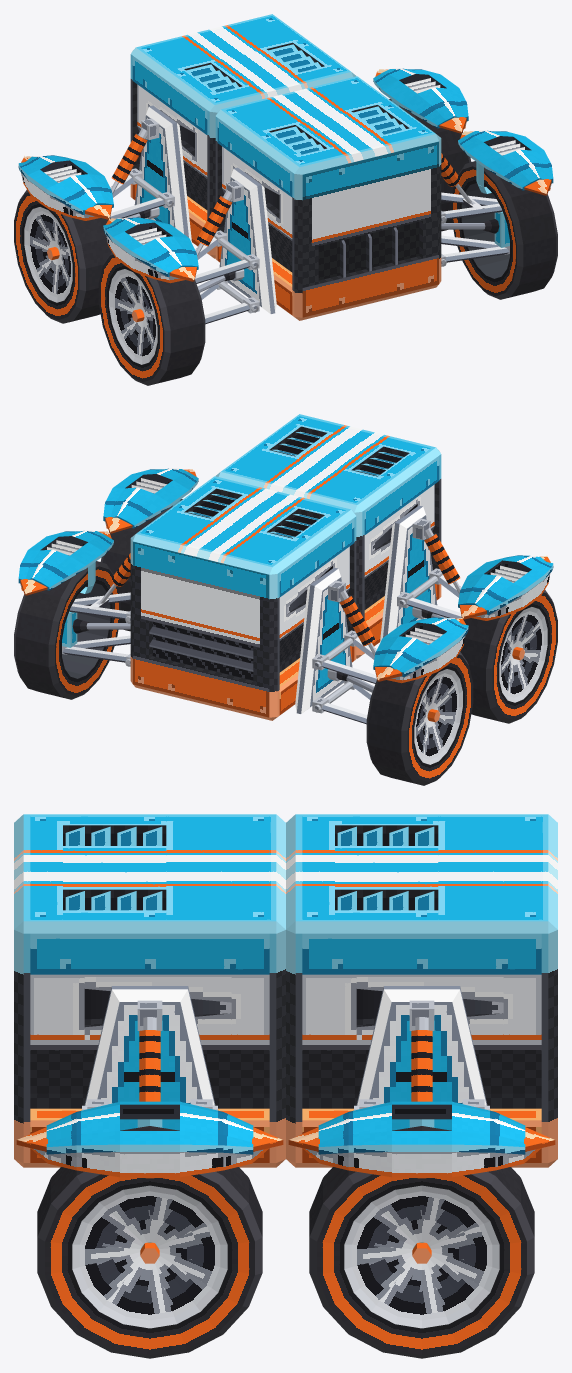
File: aero_e_rig.glb
3 renders of one model, top to bottom at view 1: azimuth 30°, elevation 25°; view 2: azimuth 150°, elevation 25°; view 3: azimuth 270°, elevation 25°, orthographic. The views are drawn at different scales.
Visible parts, largest first — view 1: aero_b_block_0_aero_b_block_body, aero_b_block_1_aero_b_block_body, aero_e_wheel_2_aero_e_wheel_tyre, aero_e_wheel_3_aero_e_wheel_tyre, aero_e_wheel_4_aero_e_wheel_tyre, aero_e_wheel_2_aero_e_wheel_mount, aero_e_wheel_3_aero_e_wheel_mount, aero_e_wheel_2_aero_e_wheel_fender, aero_e_wheel_3_aero_e_wheel_fender, aero_e_wheel_5_aero_e_wheel_fender, aero_e_wheel_4_aero_e_wheel_fender, aero_e_wheel_5_aero_e_wheel_tyre (+9 smaller); view 2: aero_b_block_1_aero_b_block_body, aero_b_block_0_aero_b_block_body, aero_e_wheel_3_aero_e_wheel_tyre, aero_e_wheel_2_aero_e_wheel_tyre, aero_e_wheel_5_aero_e_wheel_tyre, aero_e_wheel_3_aero_e_wheel_mount, aero_e_wheel_2_aero_e_wheel_mount, aero_e_wheel_3_aero_e_wheel_fender, aero_e_wheel_2_aero_e_wheel_fender, aero_e_wheel_4_aero_e_wheel_fender, aero_e_wheel_5_aero_e_wheel_fender, aero_e_wheel_4_aero_e_wheel_tyre (+9 smaller); view 3: aero_b_block_0_aero_b_block_body, aero_b_block_1_aero_b_block_body, aero_e_wheel_4_aero_e_wheel_tyre, aero_e_wheel_5_aero_e_wheel_tyre, aero_e_wheel_4_aero_e_wheel_fender, aero_e_wheel_5_aero_e_wheel_fender, aero_e_wheel_4_aero_e_wheel_mount, aero_e_wheel_5_aero_e_wheel_mount, aero_e_wheel_4_aero_e_wheel_dmp_body, aero_e_wheel_5_aero_e_wheel_dmp_body.
Boxes of the visible parts, <box> form: aero_b_block_0_aero_b_block_body: <box>215,76,441,320</box>; aero_b_block_1_aero_b_block_body: <box>130,14,355,258</box>; aero_e_wheel_2_aero_e_wheel_tyre: <box>98,252,205,385</box>; aero_e_wheel_3_aero_e_wheel_tyre: <box>14,190,111,323</box>; aero_e_wheel_4_aero_e_wheel_tyre: <box>451,161,557,299</box>; aero_e_wheel_2_aero_e_wheel_mount: <box>211,167,276,313</box>; aero_e_wheel_3_aero_e_wheel_mount: <box>126,105,191,242</box>; aero_e_wheel_2_aero_e_wheel_fender: <box>103,217,198,283</box>; aero_e_wheel_3_aero_e_wheel_fender: <box>18,155,113,220</box>; aero_e_wheel_5_aero_e_wheel_fender: <box>373,68,468,133</box>; aero_e_wheel_4_aero_e_wheel_fender: <box>458,130,553,195</box>; aero_e_wheel_5_aero_e_wheel_tyre: <box>389,99,471,231</box>; aero_b_block_1_aero_b_block_body: <box>130,476,356,720</box>; aero_b_block_0_aero_b_block_body: <box>216,414,441,658</box>; aero_e_wheel_3_aero_e_wheel_tyre: <box>366,652,473,785</box>; aero_e_wheel_2_aero_e_wheel_tyre: <box>460,590,557,723</box>; aero_e_wheel_5_aero_e_wheel_tyre: <box>14,561,120,699</box>; aero_e_wheel_3_aero_e_wheel_mount: <box>295,567,360,713</box>; aero_e_wheel_2_aero_e_wheel_mount: <box>380,505,445,642</box>; aero_e_wheel_3_aero_e_wheel_fender: <box>373,617,468,683</box>; aero_e_wheel_2_aero_e_wheel_fender: <box>458,555,553,620</box>; aero_e_wheel_4_aero_e_wheel_fender: <box>103,468,198,533</box>; aero_e_wheel_5_aero_e_wheel_fender: <box>18,530,113,595</box>; aero_e_wheel_4_aero_e_wheel_tyre: <box>100,499,182,631</box>; aero_b_block_0_aero_b_block_body: <box>14,814,285,1167</box>; aero_b_block_1_aero_b_block_body: <box>286,814,557,1167</box>; aero_e_wheel_4_aero_e_wheel_tyre: <box>37,1126,262,1358</box>; aero_e_wheel_5_aero_e_wheel_tyre: <box>309,1126,534,1358</box>; aero_e_wheel_4_aero_e_wheel_fender: <box>16,1101,283,1178</box>; aero_e_wheel_5_aero_e_wheel_fender: <box>288,1101,555,1178</box>; aero_e_wheel_4_aero_e_wheel_mount: <box>84,986,215,1130</box>; aero_e_wheel_5_aero_e_wheel_mount: <box>356,986,487,1130</box>; aero_e_wheel_4_aero_e_wheel_dmp_body: <box>139,1017,160,1101</box>; aero_e_wheel_5_aero_e_wheel_dmp_body: <box>411,1017,432,1101</box>.
Size of the model in its own units: 2.81 by 1.38 by 2.
Materials: 1 (1 with a texture image).
